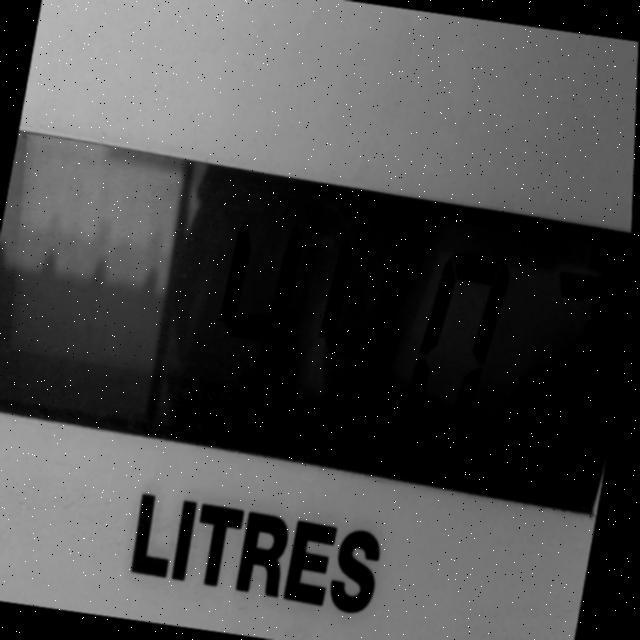.: (370, 417, 399, 458)
0: (390, 253, 514, 474)
2: (497, 258, 615, 490)
4: (201, 201, 321, 435), (300, 219, 412, 442)
